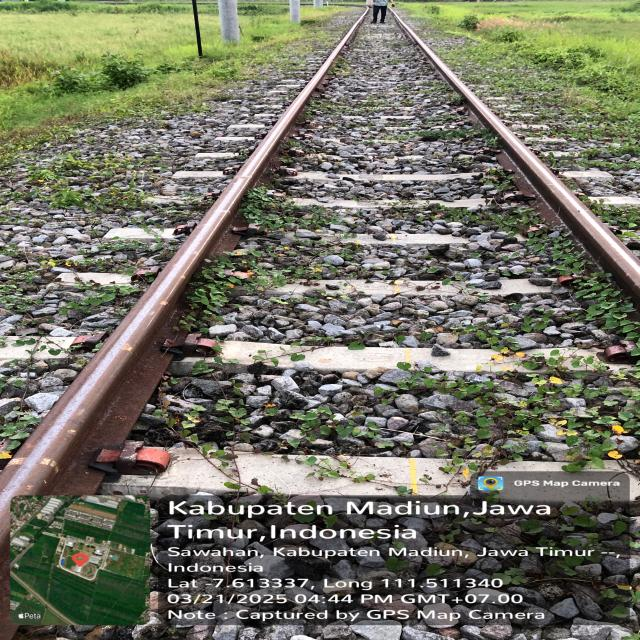rail-detection: (0, 11, 367, 536), (396, 17, 640, 295)
